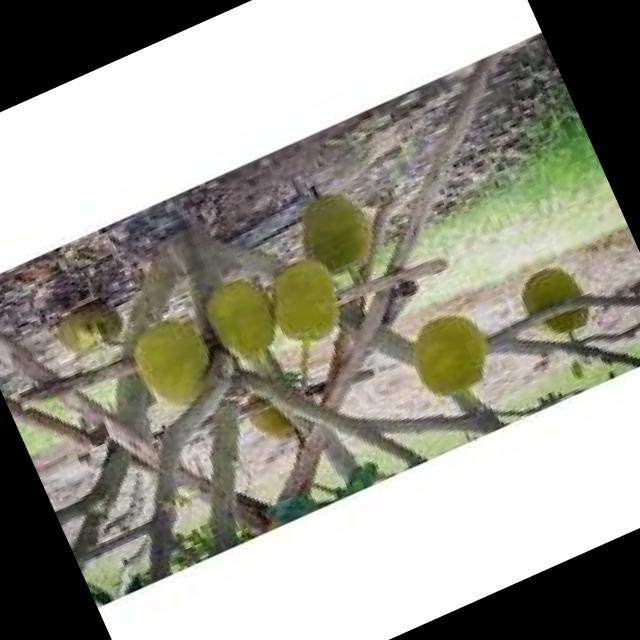Fruit: (103, 290, 244, 434), (174, 250, 306, 388)
